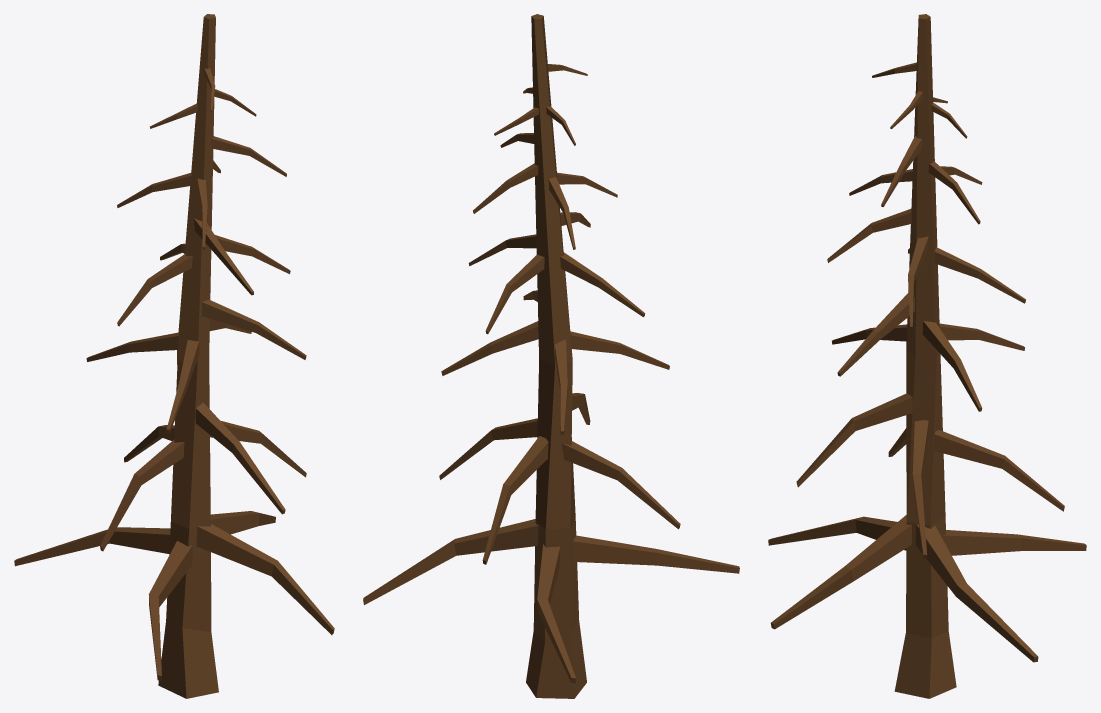
File: albero2.obj
3 views of the same model, side by side, from view 1: azimuth 30°, elevation 25°; view 2: azimuth 150°, elevation 25°; view 3: azimuth 270°, elevation 25° (orthographic). The views are drawn at different scales.
Parts seen in each view (by area): view 1: DeadSpruce1; view 2: DeadSpruce1; view 3: DeadSpruce1.
Part boxes in pixels (x1=…): DeadSpruce1: x1=14, y1=14, x2=334, y2=698; DeadSpruce1: x1=363, y1=14, x2=739, y2=698; DeadSpruce1: x1=768, y1=14, x2=1086, y2=698.
Bounding box in the file's own units: 4.75 × 12.2 × 5.2.
1 material, 1 textured.
